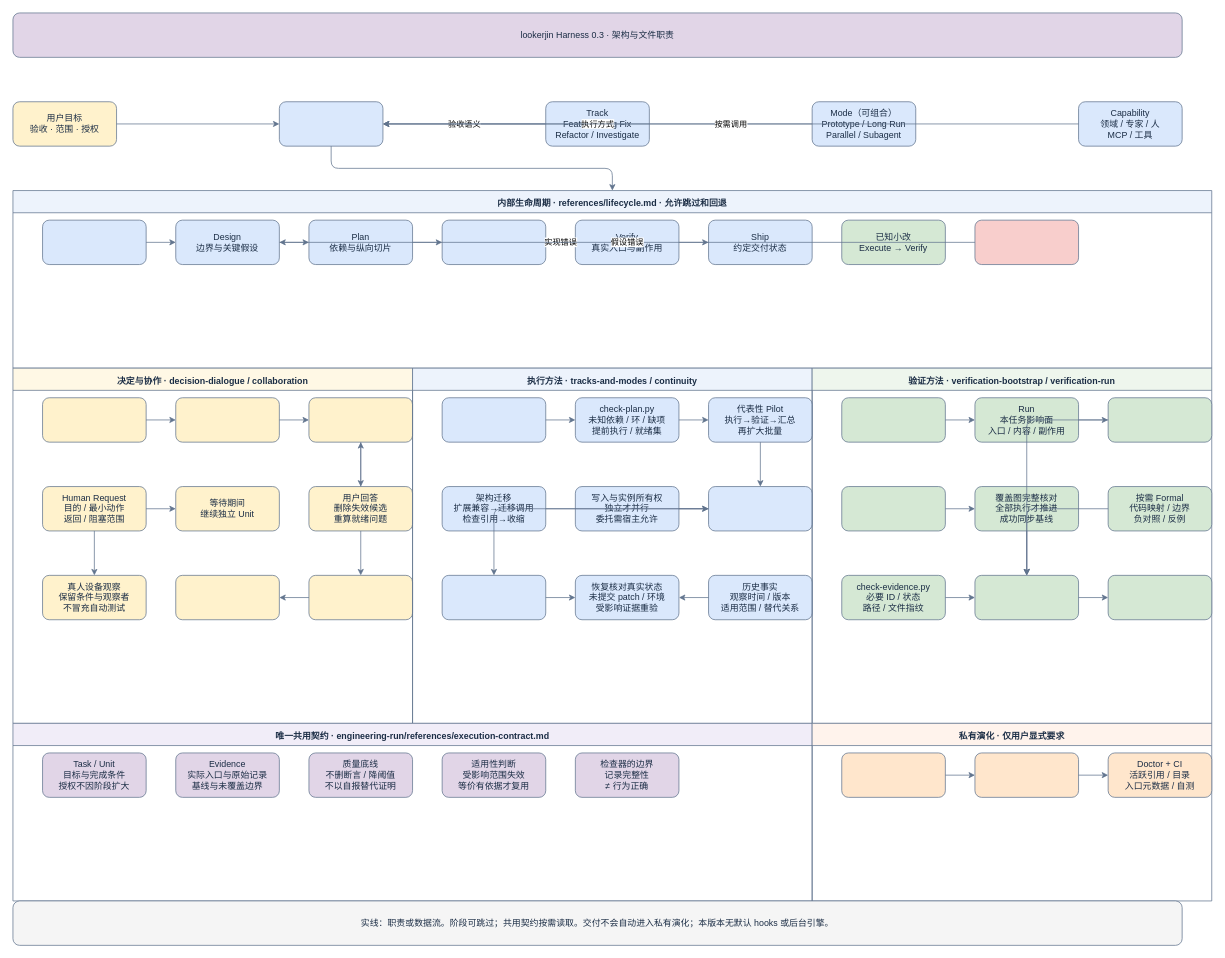
Image size: 1225x958. Some labels were removed from this diagram. Here are the shapes that lost their labels. From the top down, the centre of each, then its label:
At (x=331, y=123): "engineering-run 选择最短充分路径".
At (x=94, y=242): "Brainstorm 目标与成功现象".
At (x=493, y=242): "Execute 小步变换".
At (x=1026, y=242): "失败分类 实现错 / 假设错 目标错 / 环境阻塞".
At (x=94, y=419): "先查代码事实 复用用户已给答案".
At (x=227, y=419): "待决问题 前置 · 推荐 · 后果".
At (x=360, y=419): "frontier.md 只问依赖已满足项".
At (x=493, y=419): "Unit 目标 / 范围 / 上下文 验收 / 验证 / 依赖".
At (x=893, y=419): "Bootstrap 唯一项目配方 首条代表路径证明".
At (x=1159, y=419): "Cleanup 仅自己的资源 证据仍存在".
At (x=760, y=508): "逐 Unit 复核 合并后集成验证".
At (x=893, y=508): "显式 Maintain 基线后变化 新增入口 / 写入者".
At (x=227, y=597): "按需记录 领域词汇 / ADR".
At (x=360, y=597): "局部：解除阻塞 完整：前沿清空 共同理解确认".
At (x=493, y=597): "项目既有检查点 目标 / 授权 / 证据 资源 / 阻塞 / 下一步".
At (x=1026, y=597): "逐项结果 VERIFIED 未验证 / 不确定".
At (x=1159, y=597): "change-review 最终 diff / 门槛 证据适用性 / 发现".
At (x=893, y=774): "Evidence → Eval Distill → Evolve Doctor".
At (x=1026, y=774): "隔离快照与固定判据 原始行为评估 未跑保留 NOT_RUN".
